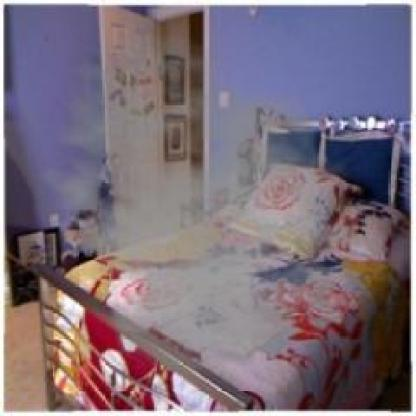Smoke: (22, 30, 377, 383)
